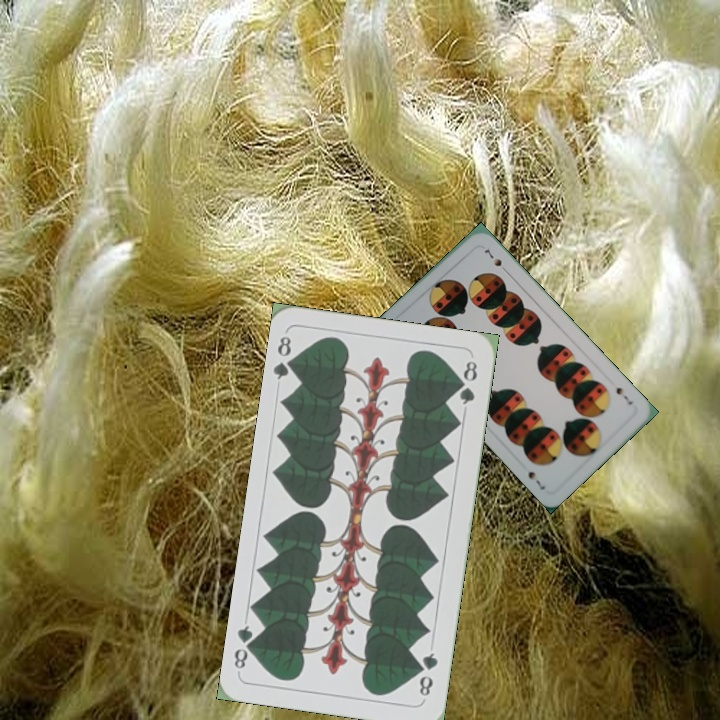G8: (270, 332, 300, 382), (415, 648, 441, 699)
S7: (612, 382, 636, 407)
